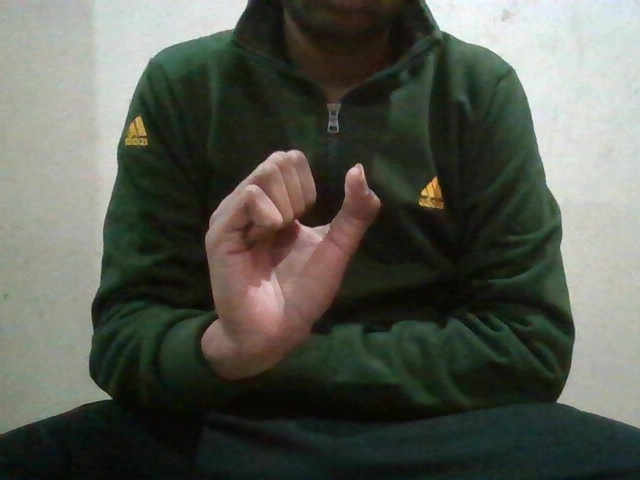S: (192, 146, 384, 344)
